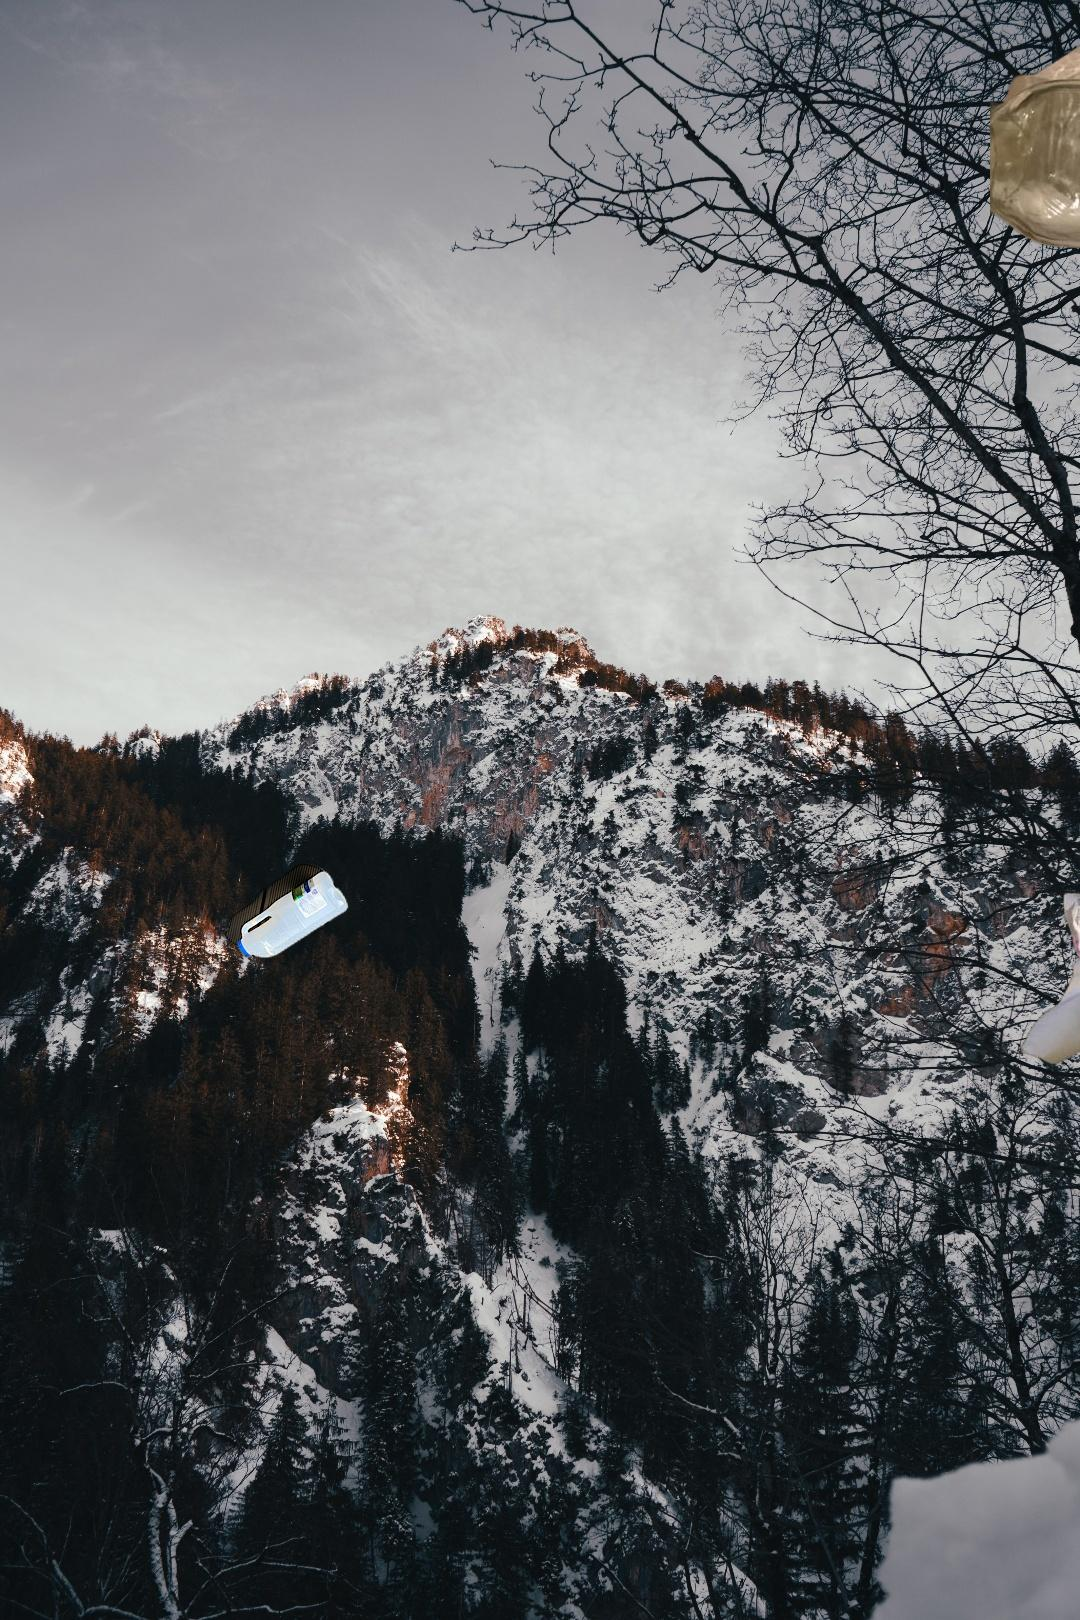glass: (990, 28, 1080, 262)
paper: (1015, 890, 1080, 1068)
plastic-bottles: (220, 857, 354, 965)
